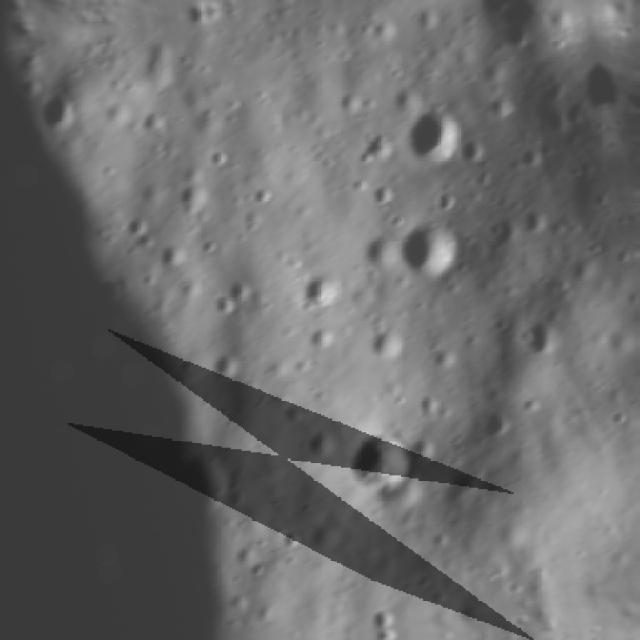crater: (346, 424, 422, 510), (388, 214, 459, 288), (408, 105, 470, 169), (37, 86, 86, 140), (301, 272, 348, 321), (574, 59, 608, 123), (357, 128, 401, 172), (352, 16, 400, 56), (175, 184, 222, 218), (526, 328, 562, 368), (428, 344, 472, 376), (371, 329, 409, 366), (488, 93, 522, 129), (388, 85, 424, 118), (208, 353, 245, 385), (207, 290, 239, 324), (121, 215, 159, 242), (334, 95, 368, 124), (158, 244, 192, 271), (523, 209, 551, 240), (141, 108, 168, 140), (15, 80, 48, 106), (369, 187, 402, 213), (515, 148, 543, 178), (414, 8, 446, 34), (204, 148, 236, 174), (248, 184, 280, 210), (453, 254, 479, 286), (17, 50, 46, 78), (464, 138, 490, 168), (432, 195, 462, 220), (486, 218, 508, 248), (374, 609, 401, 633), (282, 532, 308, 556), (135, 235, 167, 254), (232, 281, 254, 308), (194, 12, 226, 30), (173, 50, 198, 73), (101, 162, 124, 187), (243, 220, 266, 242), (202, 238, 224, 259), (389, 216, 411, 236), (462, 232, 484, 252), (352, 177, 372, 198), (618, 250, 633, 272), (195, 64, 212, 82), (433, 0, 493, 2)
